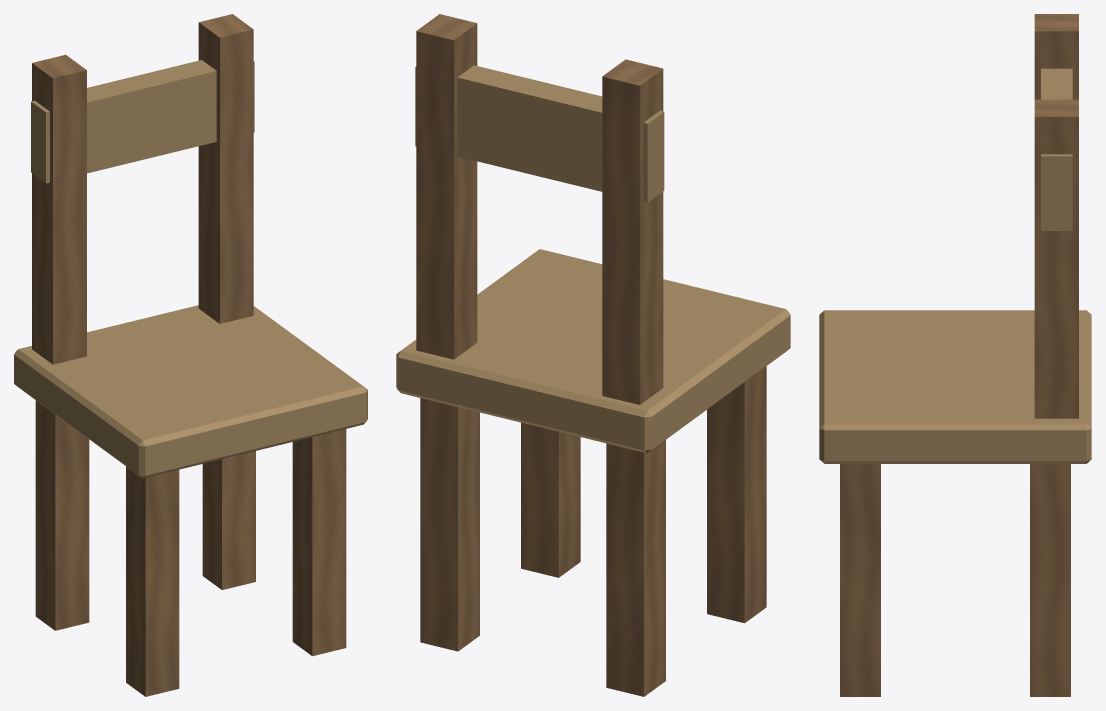
The model's file is chair.glb.
3 views of the same model, side by side, from view 1: azimuth 30°, elevation 25°; view 2: azimuth 150°, elevation 25°; view 3: azimuth 270°, elevation 25° (orthographic). The views are drawn at different scales.
Visible parts, largest first — view 1: chair; view 2: chair; view 3: chair.
Part boxes in pixels (left/top/right/bottom): chair: left=14, top=14, right=367, bottom=696; chair: left=396, top=14, right=790, bottom=696; chair: left=819, top=14, right=1091, bottom=696.
Size of the model in its own units: 0.44 by 1.01 by 0.43.
Materials: 2 (1 with a texture image).
